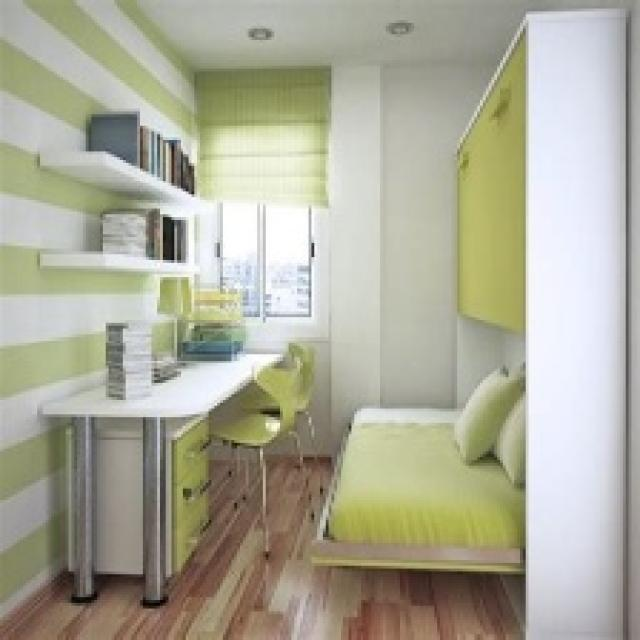Bed: (306, 403, 523, 574)
